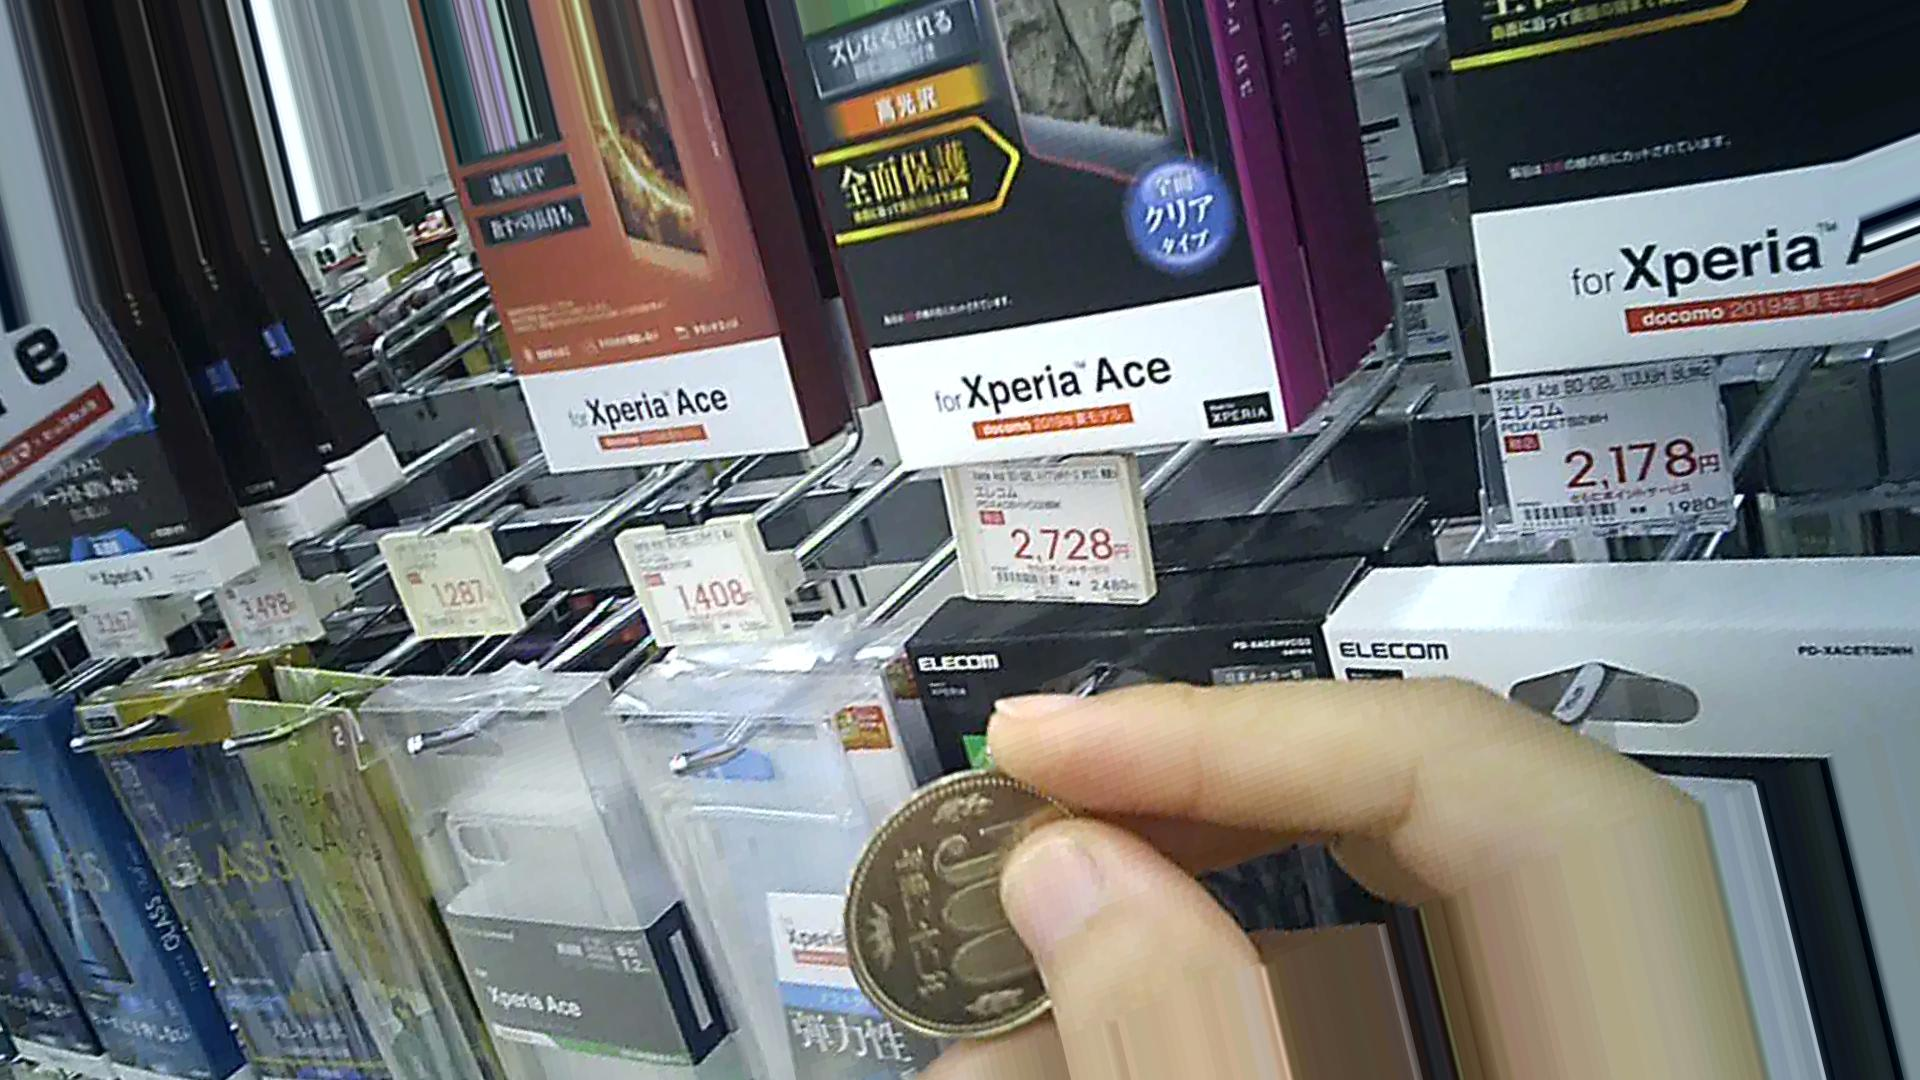500 Yen: (841, 770, 1104, 1048)
